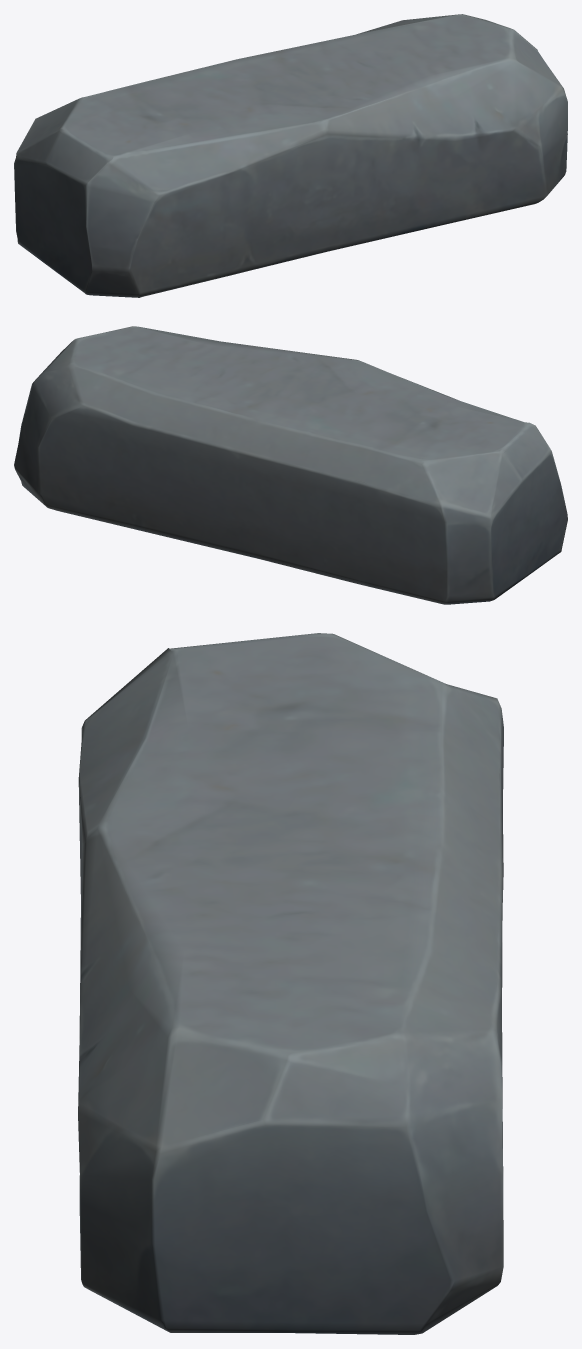
The model's file is Meshy_AI_model_20261128_texture.fbx.
3 renders of one model, top to bottom at view 1: azimuth 30°, elevation 25°; view 2: azimuth 150°, elevation 25°; view 3: azimuth 270°, elevation 25°, orthographic. The views are drawn at different scales.
Visible parts, largest first — view 1: geometry_0; view 2: geometry_0; view 3: geometry_0.
Part boxes in pixels (x1=…): geometry_0: x1=14, y1=14, x2=567, y2=297; geometry_0: x1=14, y1=326, x2=567, y2=604; geometry_0: x1=78, y1=633, x2=503, y2=1334.
Bounding box in the file's own units: 100 × 26.73 × 38.98.
Materials: 1 (1 with a texture image).
